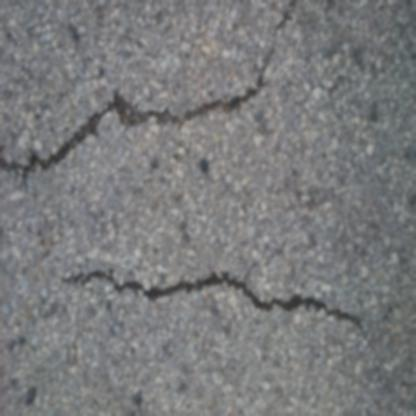Cracks: (0, 0, 307, 183), (63, 258, 364, 330)
